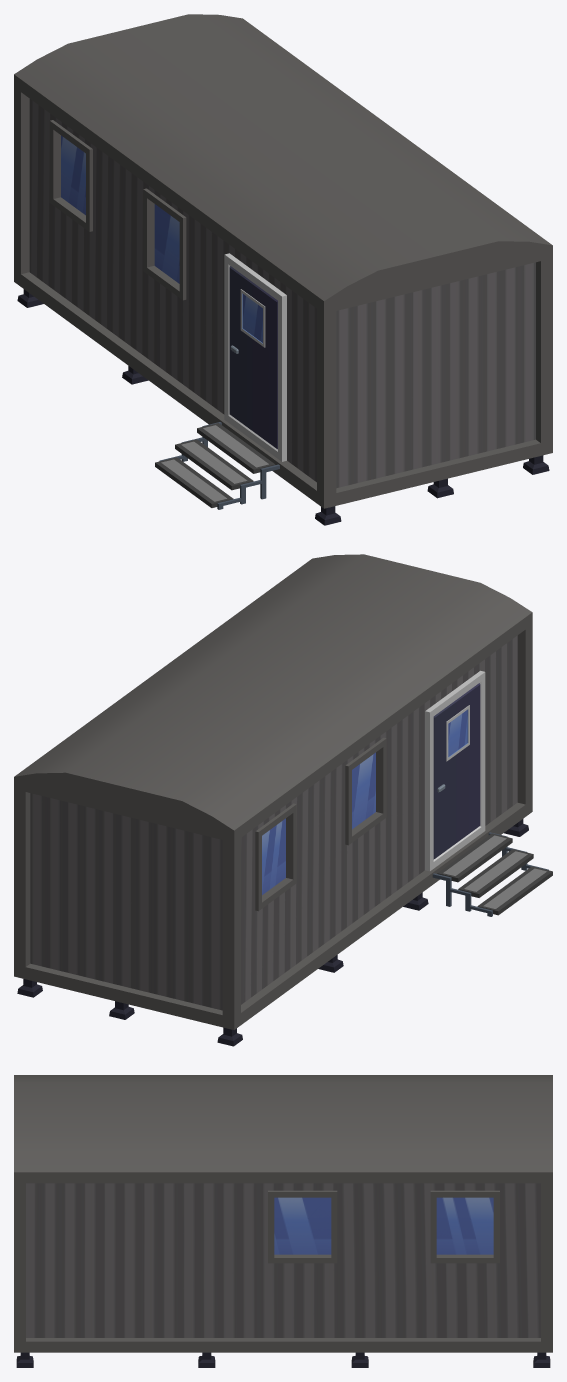
File: TrailerC_1_C.fbx
3 renders of one model, top to bottom at view 1: azimuth 30°, elevation 25°; view 2: azimuth 150°, elevation 25°; view 3: azimuth 270°, elevation 25°, orthographic. The views are drawn at different scales.
Visible parts, largest first — view 1: TrailerC_1_C; view 2: TrailerC_1_C; view 3: TrailerC_1_C.
Boxes of the visible parts, x1,y1,x2,y2 form: TrailerC_1_C: (14, 14, 552, 525); TrailerC_1_C: (14, 554, 552, 1046); TrailerC_1_C: (14, 1075, 552, 1367).
Size of the model in its own units: 330 by 260 by 599.
